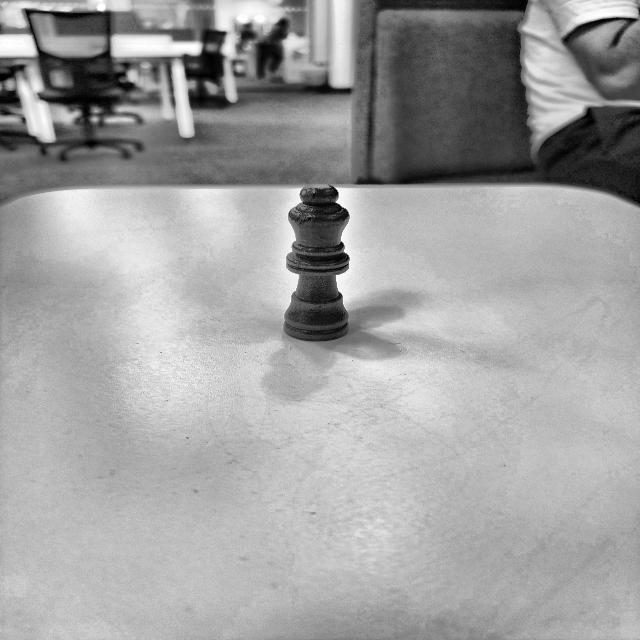black-queen: (282, 183, 350, 342)
